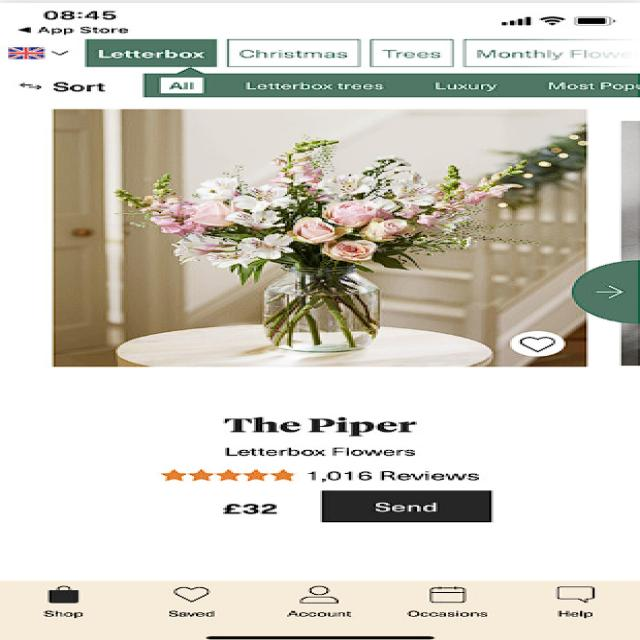button: (299, 488, 514, 534)
icon button: (396, 579, 504, 623), (532, 584, 628, 624), (157, 582, 245, 624), (284, 580, 368, 624), (30, 583, 106, 622)
image: (21, 96, 618, 379)
text: (112, 406, 512, 488)
